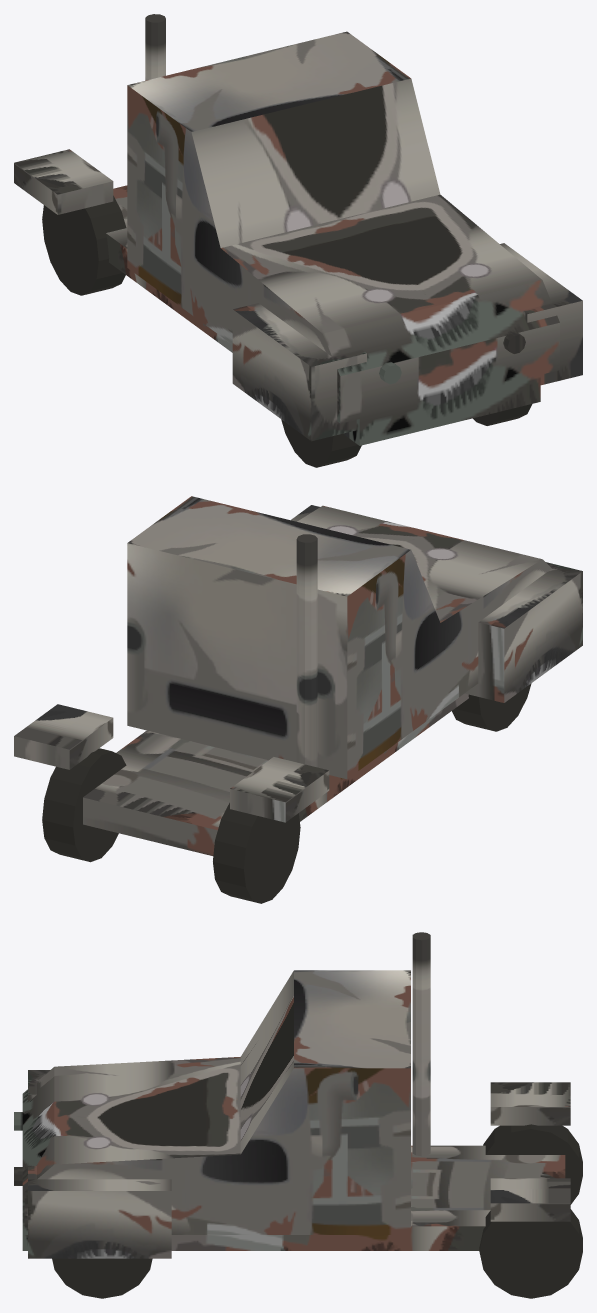
The model's file is Building_AncientIndustrialTruck.glb.
3 views of the same model, one above another, from view 1: azimuth 30°, elevation 25°; view 2: azimuth 150°, elevation 25°; view 3: azimuth 270°, elevation 25° (orthographic). The views are drawn at different scales.
Visible parts, largest first — view 1: AncientIndustrialTruck; view 2: AncientIndustrialTruck; view 3: AncientIndustrialTruck.
Part boxes in pixels (x1,y1,x2,y2): AncientIndustrialTruck: (14,14,582,467); AncientIndustrialTruck: (14,496,582,903); AncientIndustrialTruck: (14,932,582,1298).
Bounding box in the file's own units: 2.1 × 2.3 × 4.18.
Materials: 1 (1 with a texture image).
